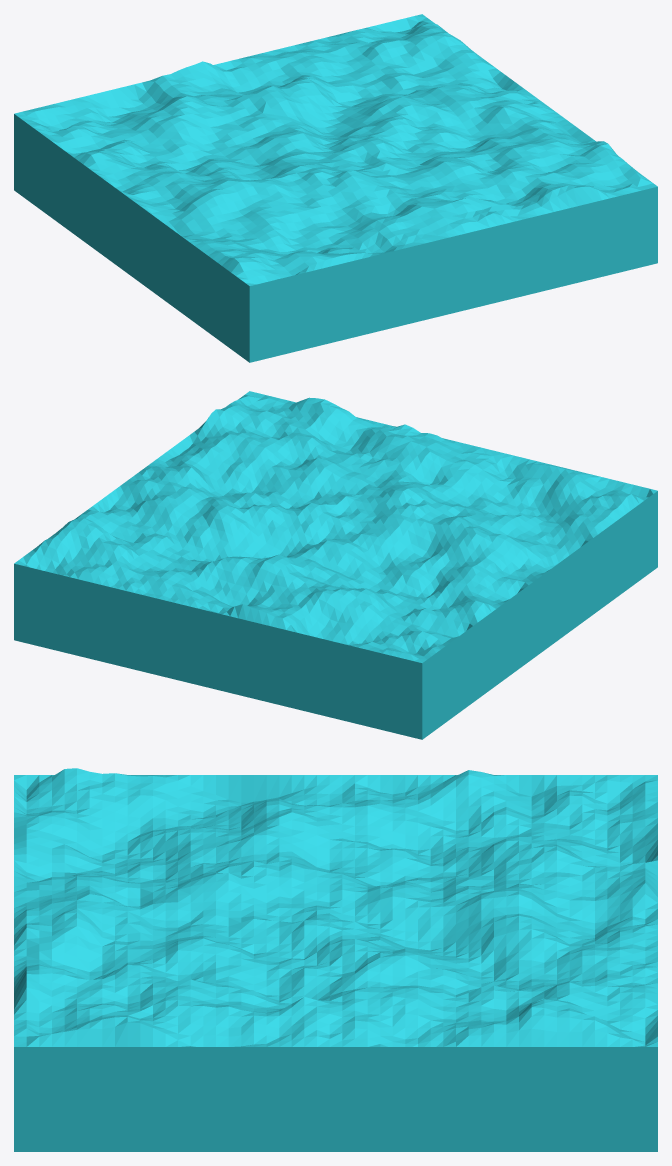
Rendered from lowporiWater.fbx.
3 renders of one model, top to bottom at view 1: azimuth 30°, elevation 25°; view 2: azimuth 150°, elevation 25°; view 3: azimuth 270°, elevation 25°, orthographic. The views are drawn at different scales.
Visible parts, largest first — view 1: Cube; view 2: Cube; view 3: Cube.
Part boxes in pixels (box(x1,y1,x2,y2)): Cube: box(14, 14, 657, 362); Cube: box(14, 391, 657, 739); Cube: box(14, 768, 657, 1151).
Size of the model in its own units: 200 by 44.06 by 200.
